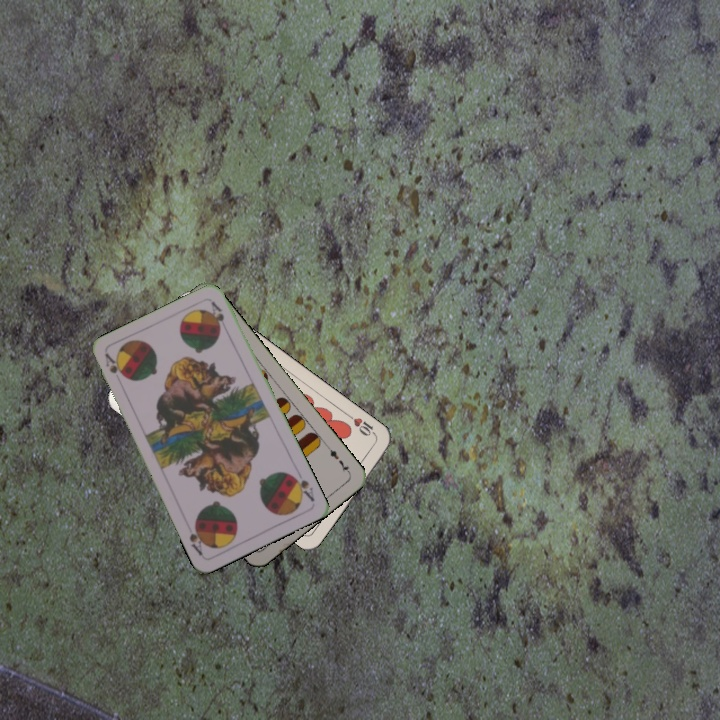E7: (323, 442, 353, 476)
H10: (344, 411, 380, 440)
SA: (287, 466, 317, 505), (101, 350, 126, 379)
